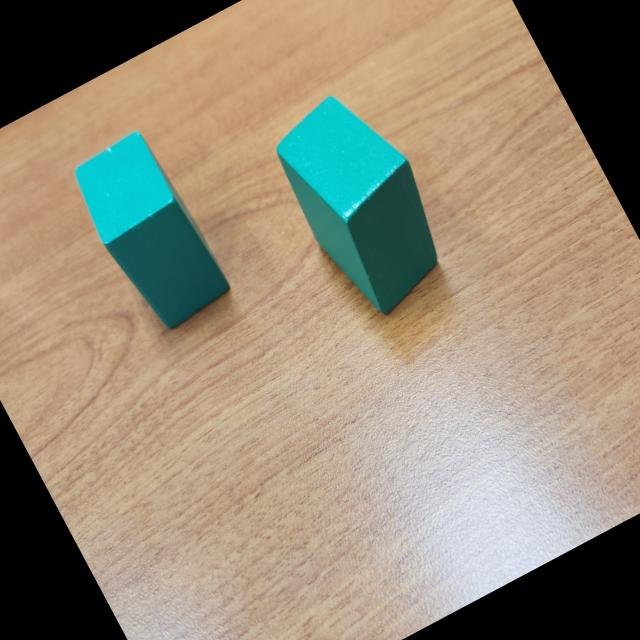green: (258, 75, 468, 328), (61, 123, 238, 340)
